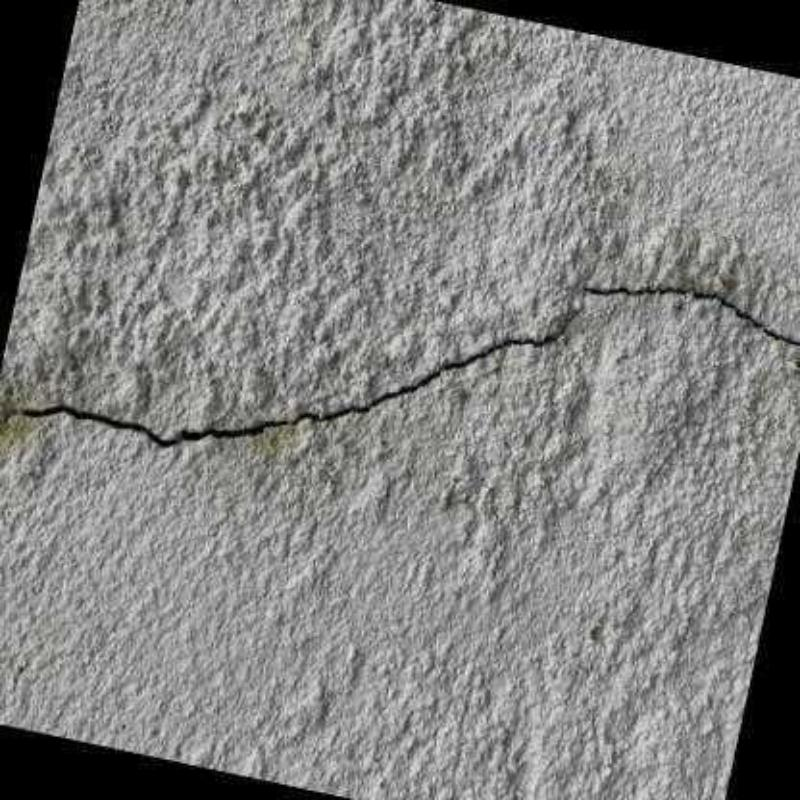pothole: (4, 284, 800, 451)
